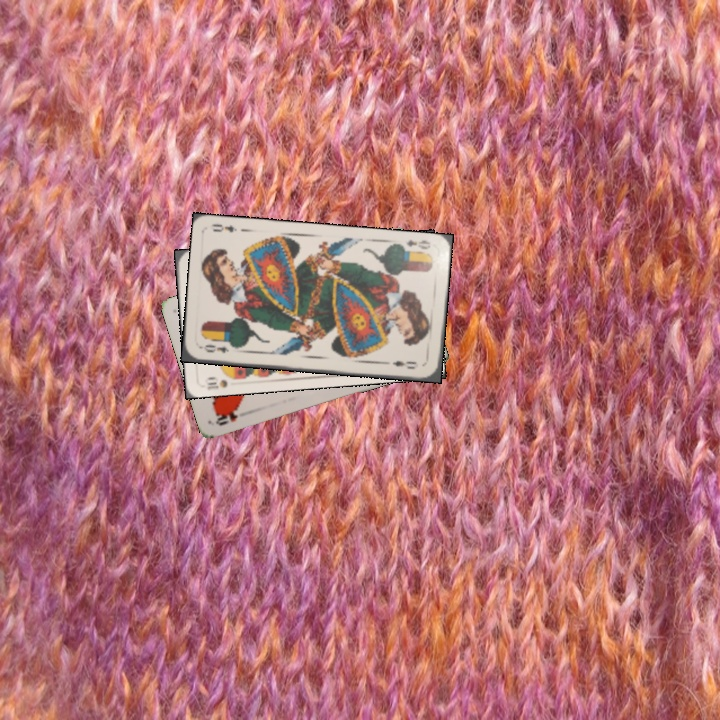EO: (402, 236, 433, 252), (197, 341, 231, 355)
HO: (212, 406, 241, 428)
S10: (203, 371, 240, 392)
